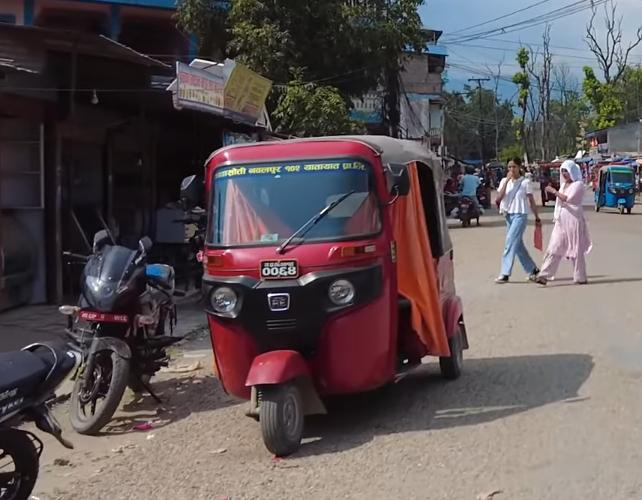auto_rickshaw: (180, 126, 474, 462)
